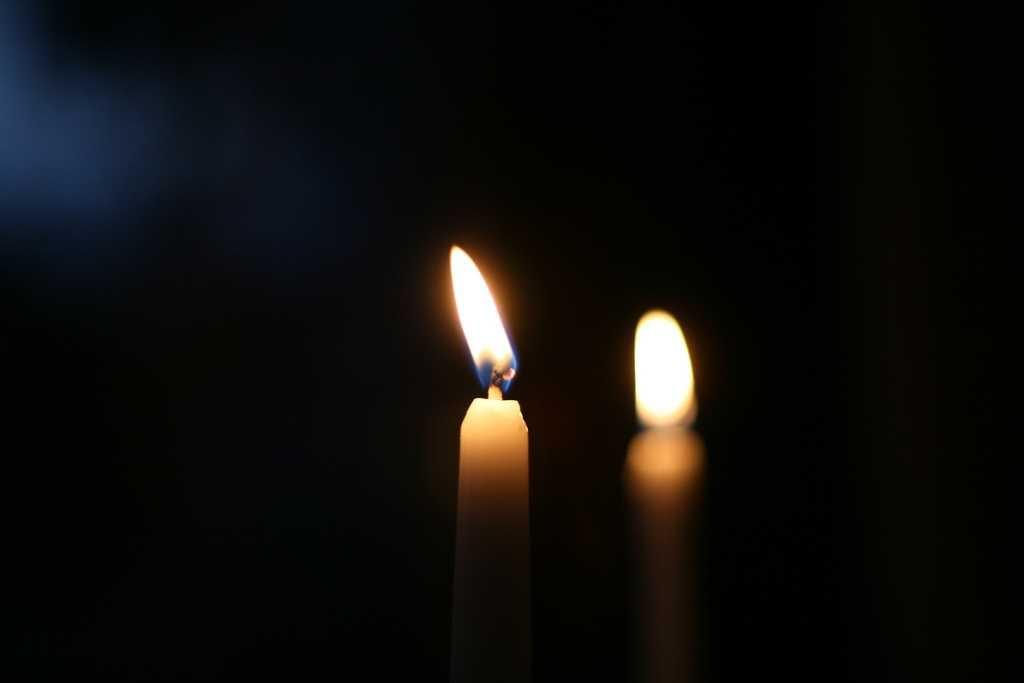fire: (433, 243, 530, 395), (626, 300, 704, 427)
